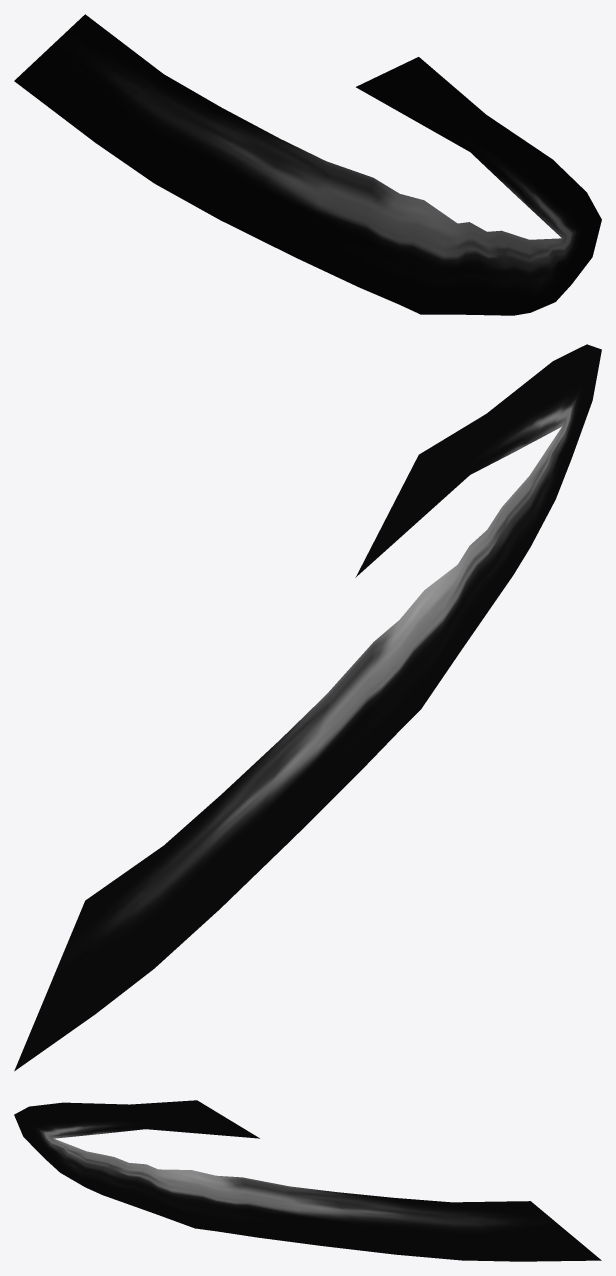
Rendered from xuelangzhijian003.fbx.
The picture shows the model from 3 angles, top to bottom: view 1: azimuth 30°, elevation 25°; view 2: azimuth 150°, elevation 25°; view 3: azimuth 270°, elevation 25°; orthographic projection. The views are drawn at different scales.
Parts seen in each view (by area): view 1: xuelangzhijian003; view 2: xuelangzhijian003; view 3: xuelangzhijian003.
Part boxes in pixels (x1,y1,x2,y2): xuelangzhijian003: (14,14,601,315); xuelangzhijian003: (14,344,601,1071); xuelangzhijian003: (14,1100,601,1261).
Size of the model in its own units: 0.00432 by 181 by 598.
